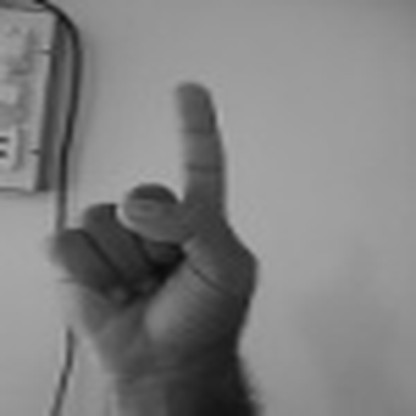d: (47, 81, 263, 390)
